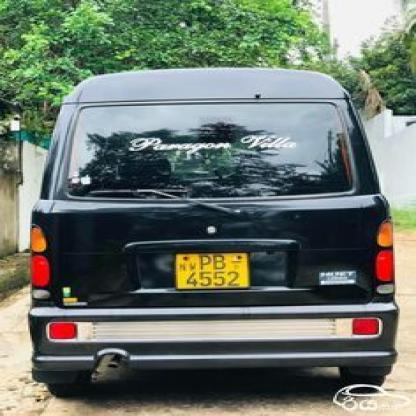number plate: (172, 253, 246, 291)
van back: (26, 66, 399, 394)
